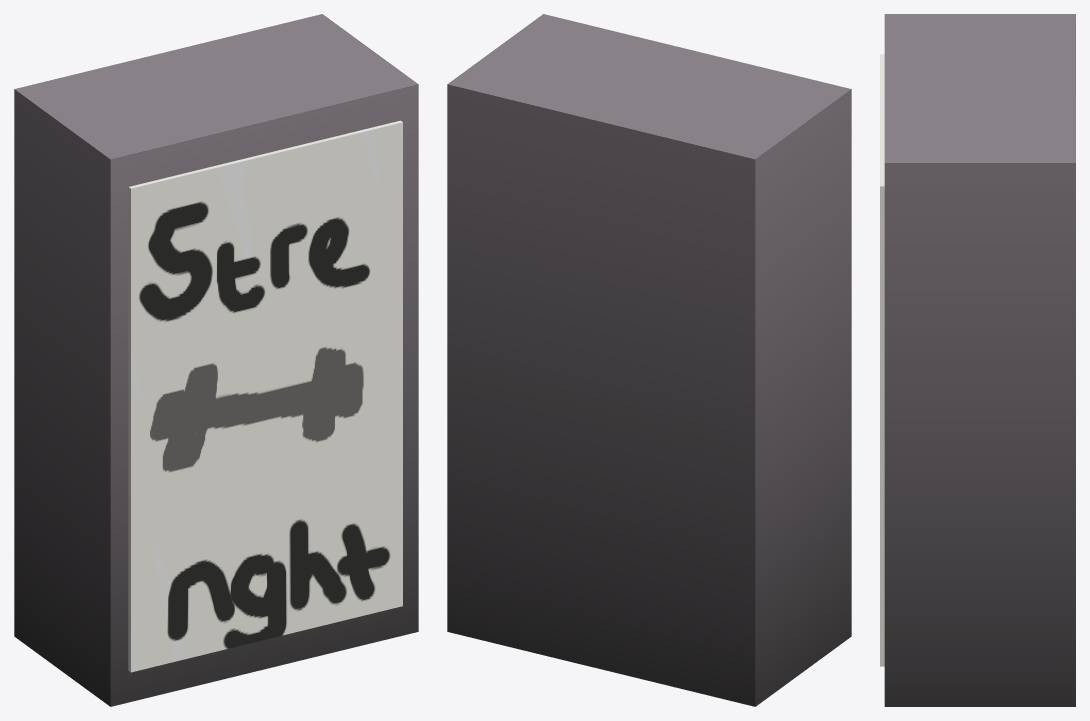
Rendered from Strenght Upgrade.glb.
The picture shows the model from 3 angles, left to right: view 1: azimuth 30°, elevation 25°; view 2: azimuth 150°, elevation 25°; view 3: azimuth 270°, elevation 25°; orthographic projection.
Parts seen in each view (by area): view 1: Cube.001, Cube; view 2: Cube; view 3: Cube, Cube.001.
Boxes of the visible parts, x1,y1,x2,y2 form: Cube.001: (128,120,402,672); Cube: (14,14,418,706); Cube: (447,14,851,706); Cube: (884,14,1075,706); Cube.001: (880,54,884,666).
Size of the model in its own units: 1.07 by 1.81 by 0.5908.
Materials: 2 (2 with a texture image).
